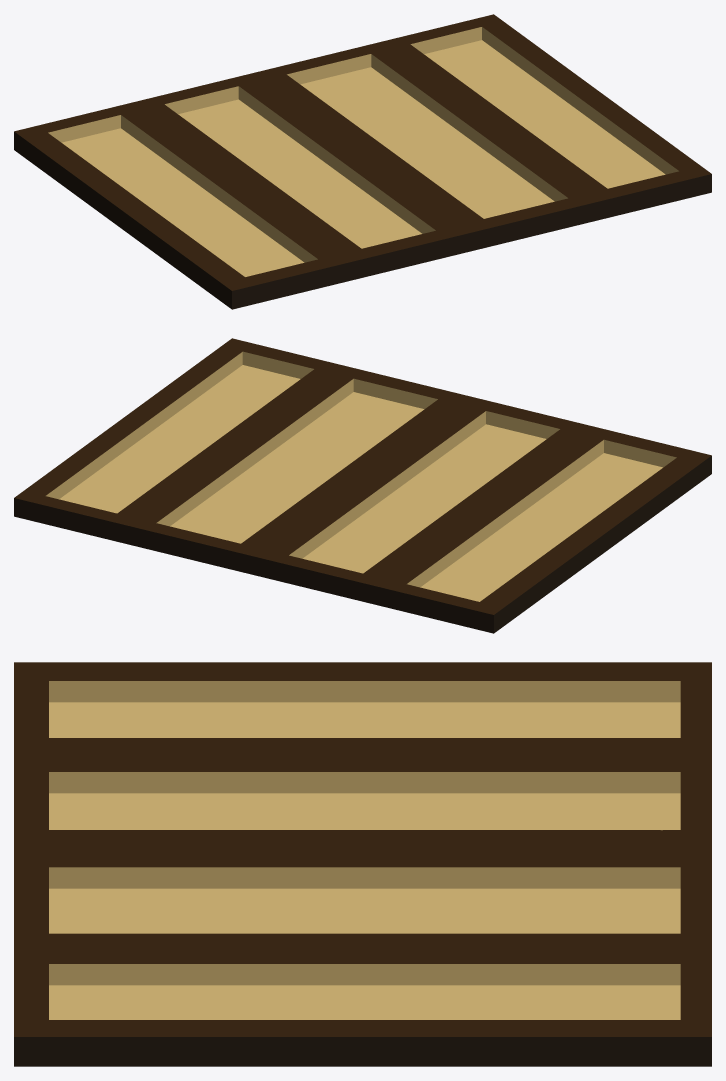
File: Vent.fbx
3 renders of one model, top to bottom at view 1: azimuth 30°, elevation 25°; view 2: azimuth 150°, elevation 25°; view 3: azimuth 270°, elevation 25°, orthographic. The views are drawn at different scales.
Visible parts, largest first — view 1: Vent; view 2: Vent; view 3: Vent.
Part boxes in pixels (bbox=[...]): Vent: bbox=[14, 14, 711, 309]; Vent: bbox=[14, 338, 711, 633]; Vent: bbox=[14, 662, 711, 1066].
Bounding box in the file's own units: 1.22 × 0.0453 × 0.9623.
